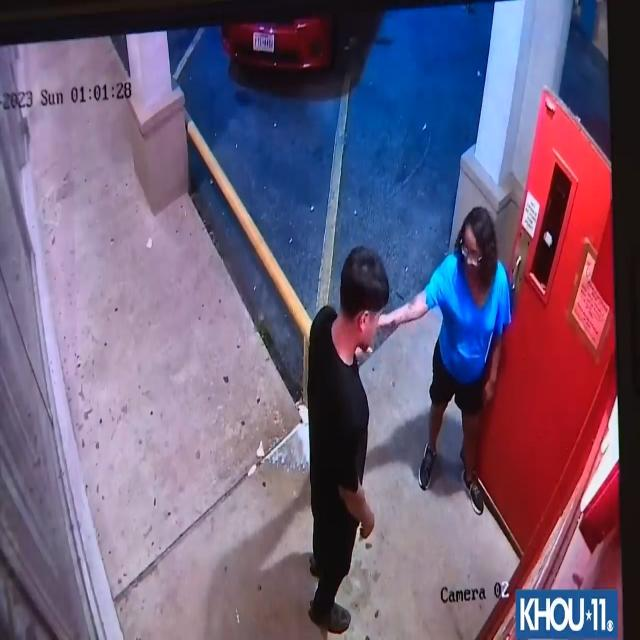Person: (304, 244, 393, 640), (434, 196, 511, 520)
